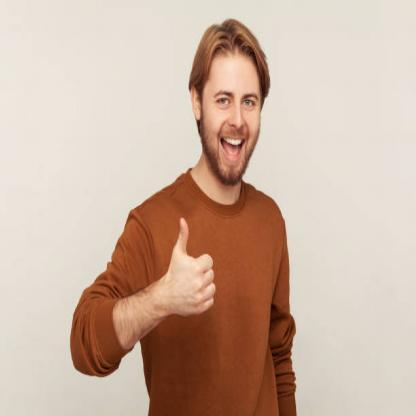thumb_up: (164, 214, 218, 321)
